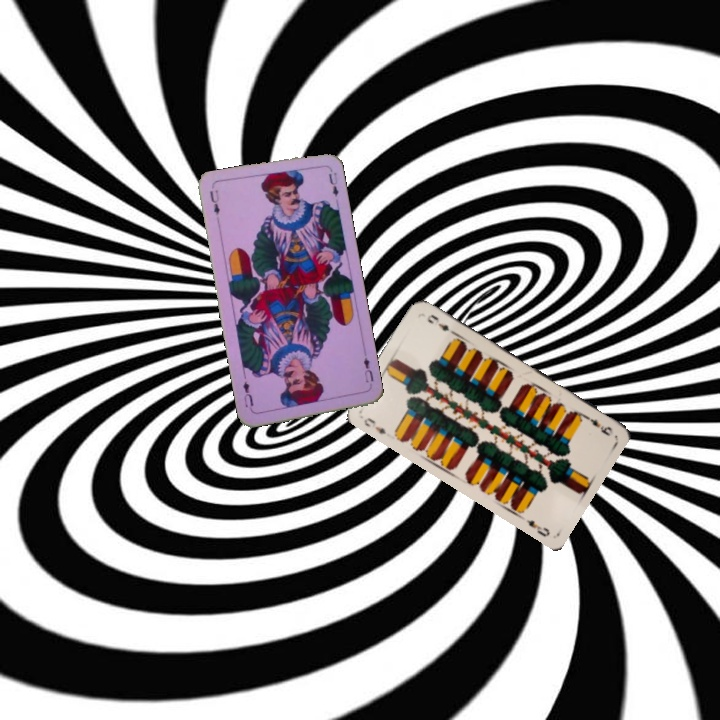E9: (579, 410, 616, 439), (360, 413, 389, 437)
EU: (359, 353, 376, 385), (205, 186, 222, 217)
